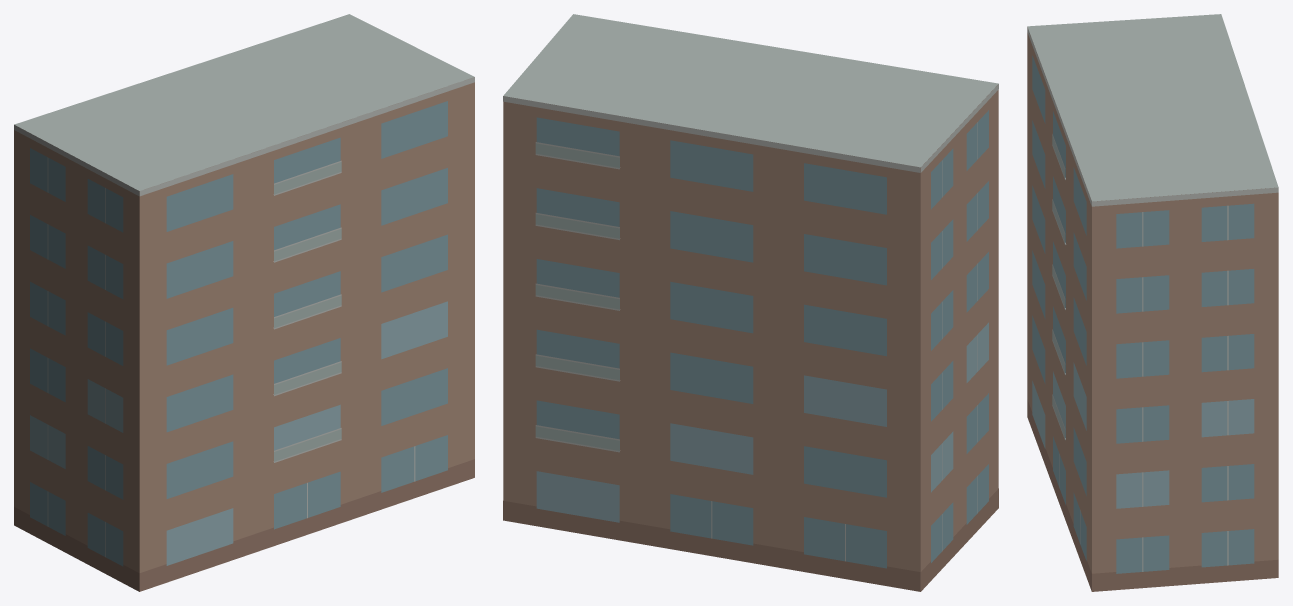
File: survey-upis-32575343.glb
The picture shows the model from 3 angles, left to right: view 1: azimuth 30°, elevation 25°; view 2: azimuth 150°, elevation 25°; view 3: azimuth 270°, elevation 25°; orthographic projection. The views are drawn at different scales.
Parts seen in each view (by area): view 1: survey-upis-32575343.tmp; view 2: survey-upis-32575343.tmp; view 3: survey-upis-32575343.tmp.
Part boxes in pixels (x1,y1,x2,y2): survey-upis-32575343.tmp: (14,14,474,591); survey-upis-32575343.tmp: (503,14,998,591); survey-upis-32575343.tmp: (1027,14,1278,591).
Bounding box in the file's own units: 18.86 × 18.3 × 10.69.
